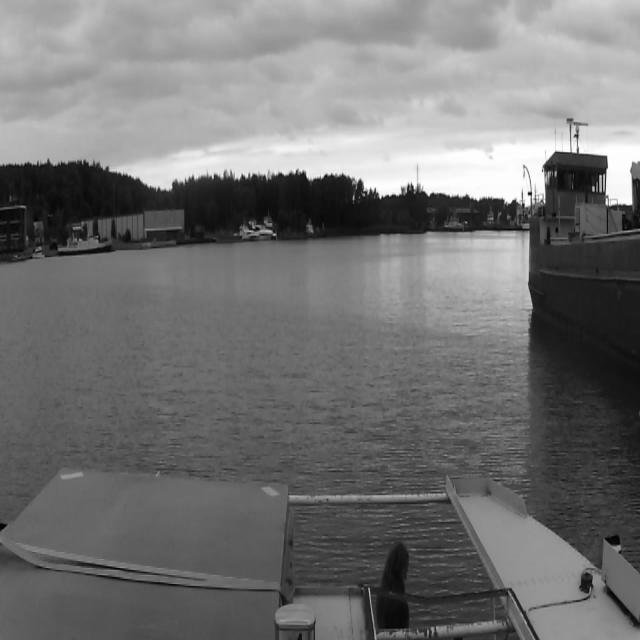ship: (522, 123, 640, 358)
